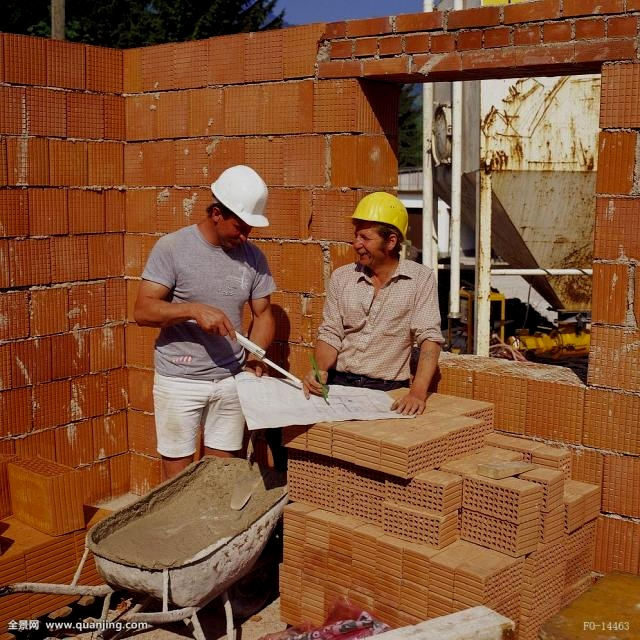Con_Casco: (207, 167, 271, 240), (350, 194, 411, 266)
Sin_Chaleco: (150, 240, 273, 373), (330, 269, 439, 378)
